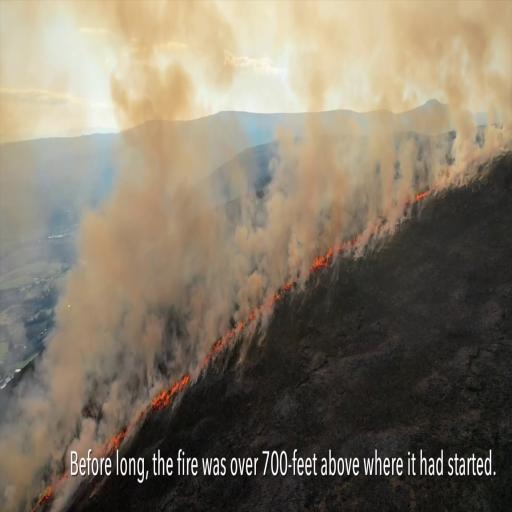smoke: (92, 16, 210, 187), (88, 199, 195, 282), (374, 71, 398, 208), (322, 150, 347, 250), (452, 60, 476, 160), (260, 190, 284, 285), (231, 234, 260, 312), (188, 272, 214, 349), (101, 351, 122, 429), (142, 314, 160, 389)
